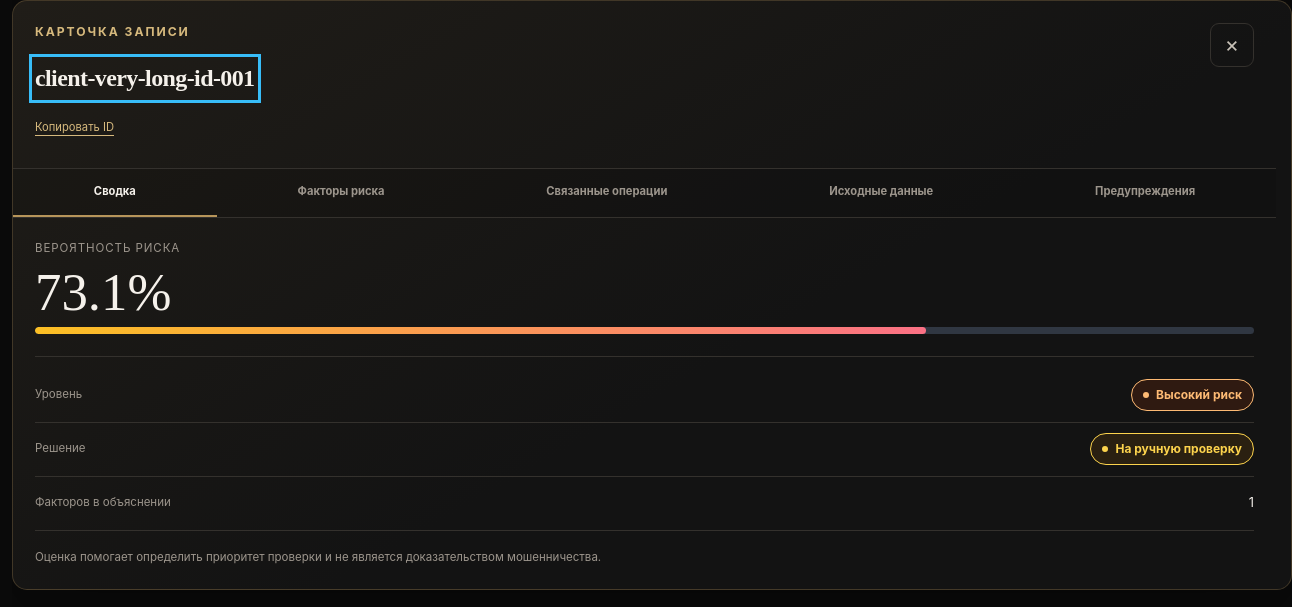
it: RecordDetails › shows a calm empty state when a row has no warnings
Click the tab "Предупреждения". click: coordinates (1145, 193)
box: [1014,169,1276,217]
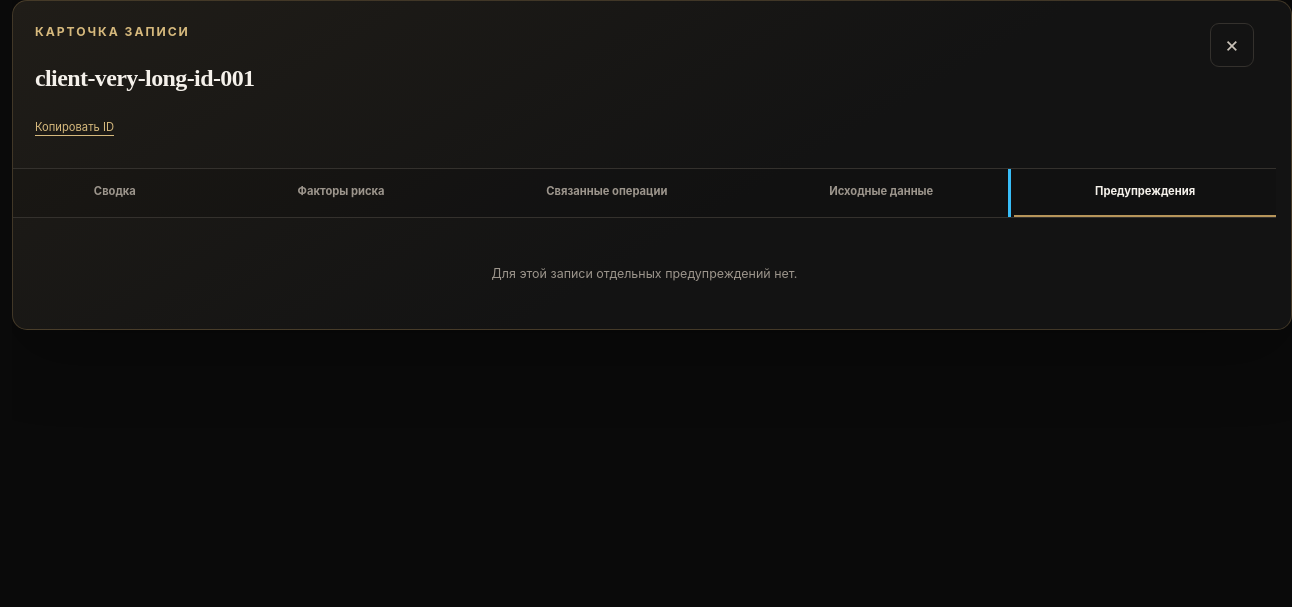
Expected: the text "Для этой записи отдельных предупреждений нет." is shown, [492,266,797,281]
